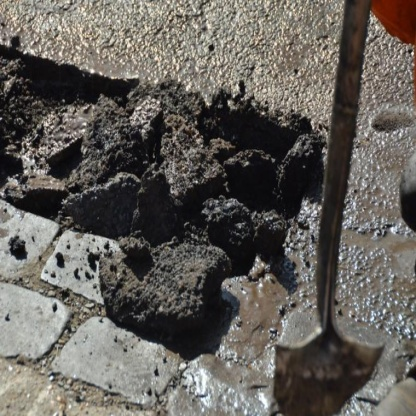pothole: (1, 36, 315, 285)
